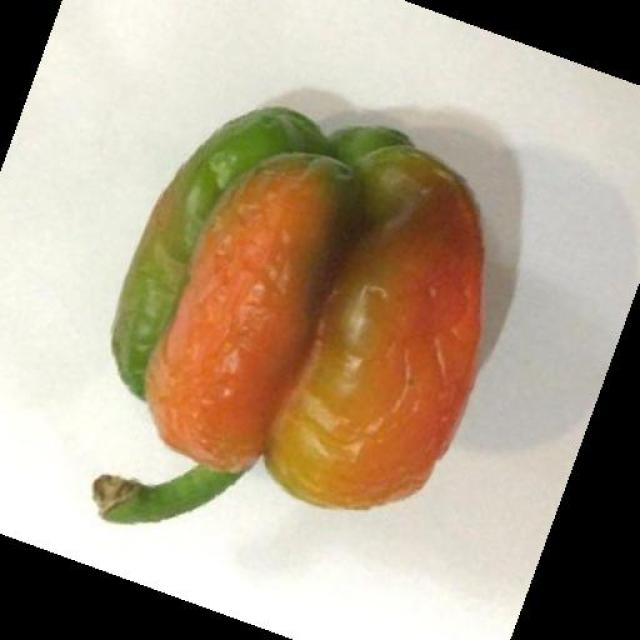Stale_Capsicum: (142, 122, 473, 527)
